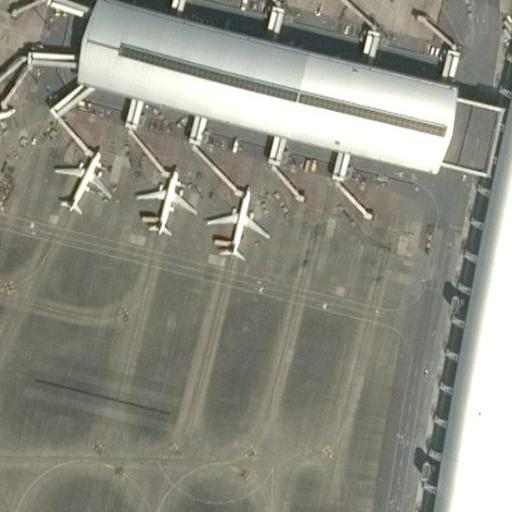Aircraft: (200, 185, 270, 258), (133, 163, 196, 237), (49, 144, 108, 214), (0, 88, 17, 147)
